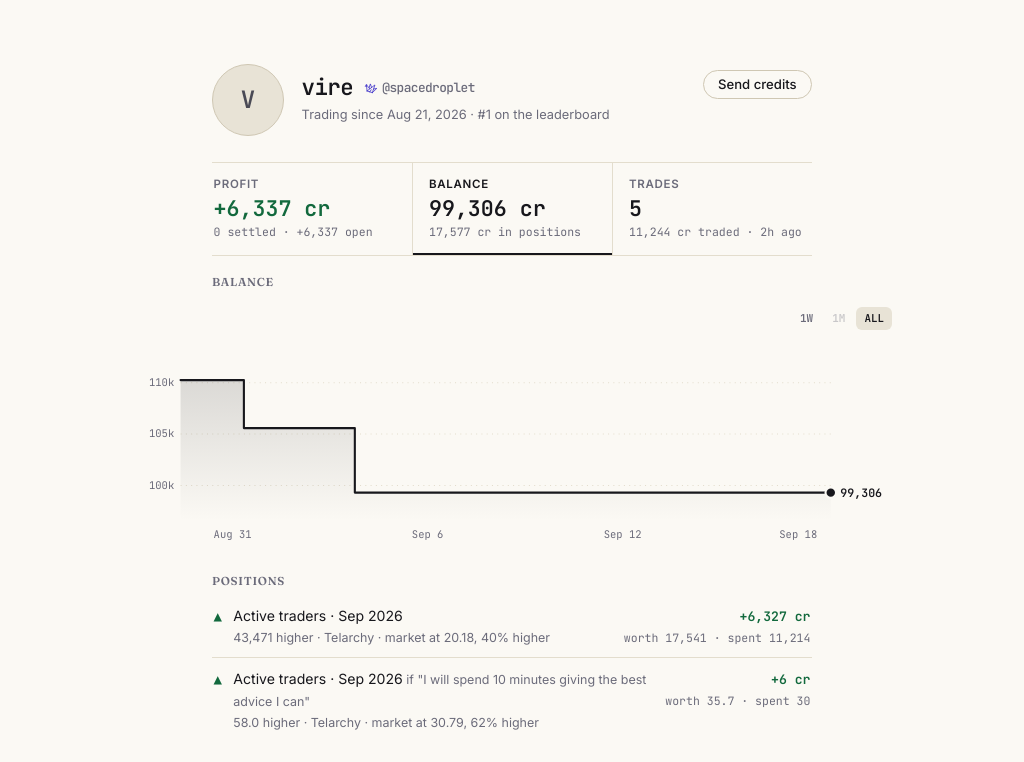
Scenario: the pressable strip › a profit history with under two points says when it starts
Click the button "Profit +6,337 cr 0 settled · +6,337 open".
click(312, 209)  # box [212,163,412,255]
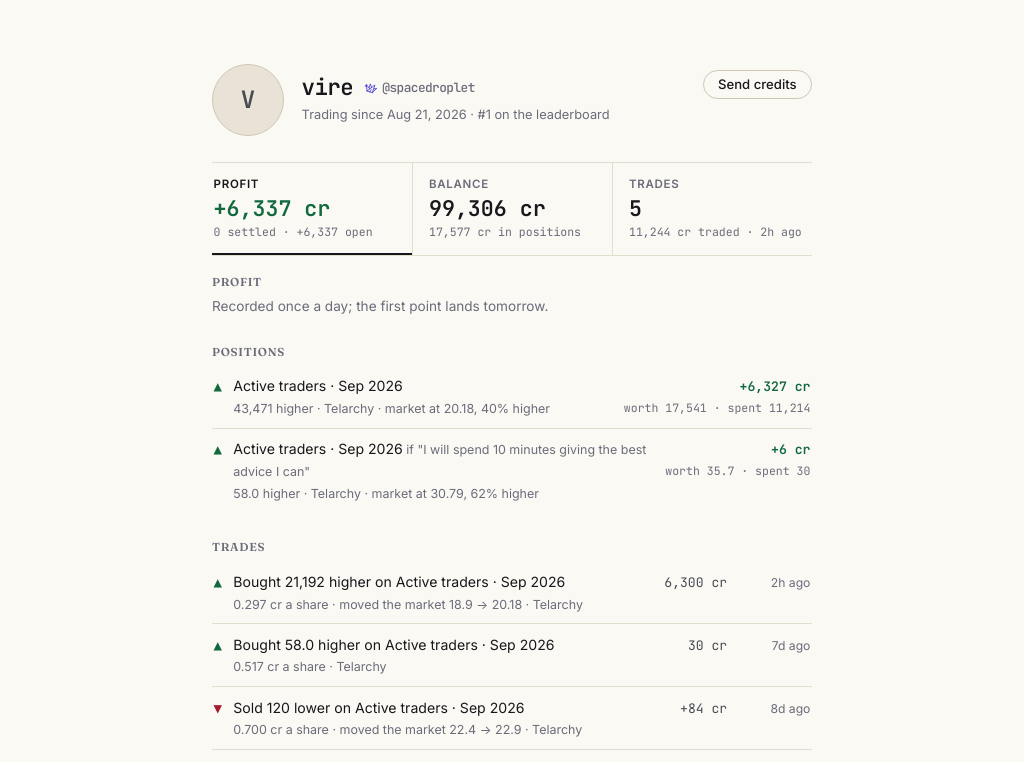
Expected: the text "Recorded once a day; the first point lands tomorrow." is shown, [212,298,548,314]
